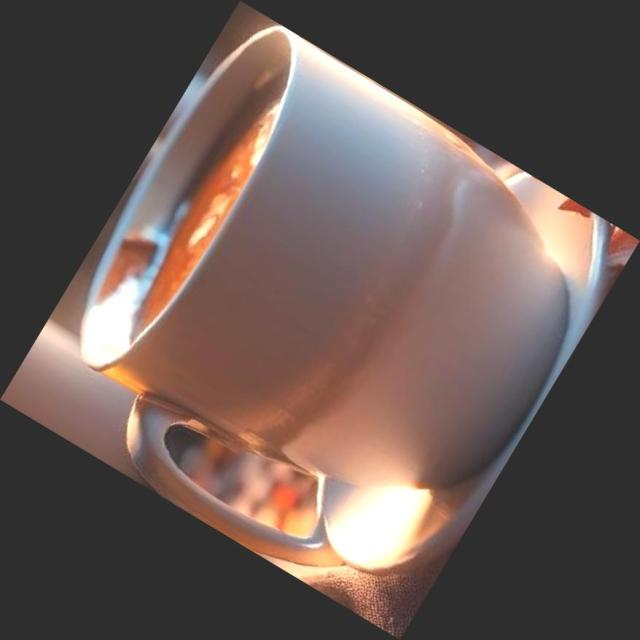cup: (1, 0, 639, 640)
